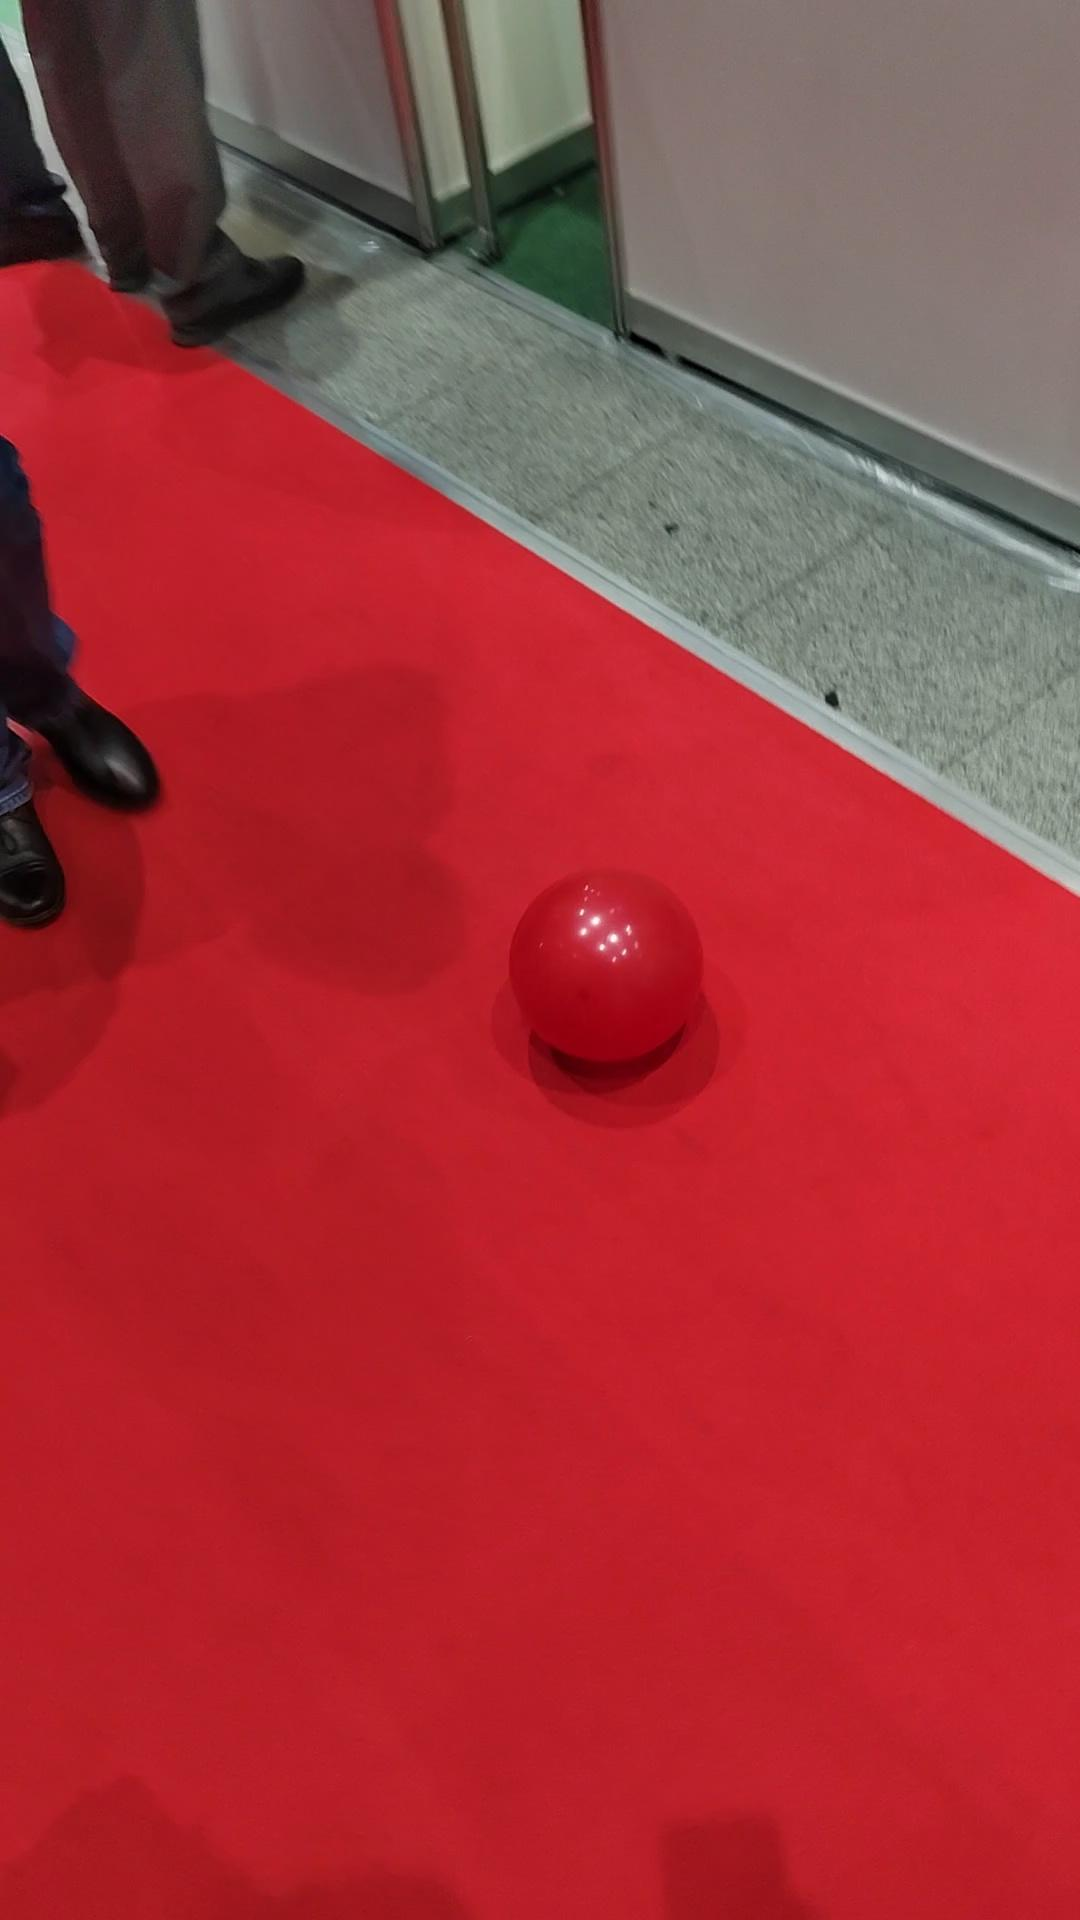red: (507, 870, 700, 1065)
